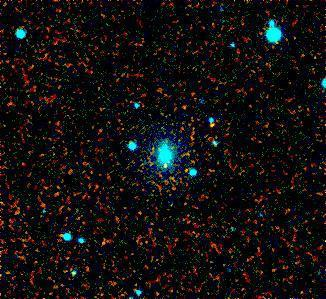star: (196, 110, 226, 140)
